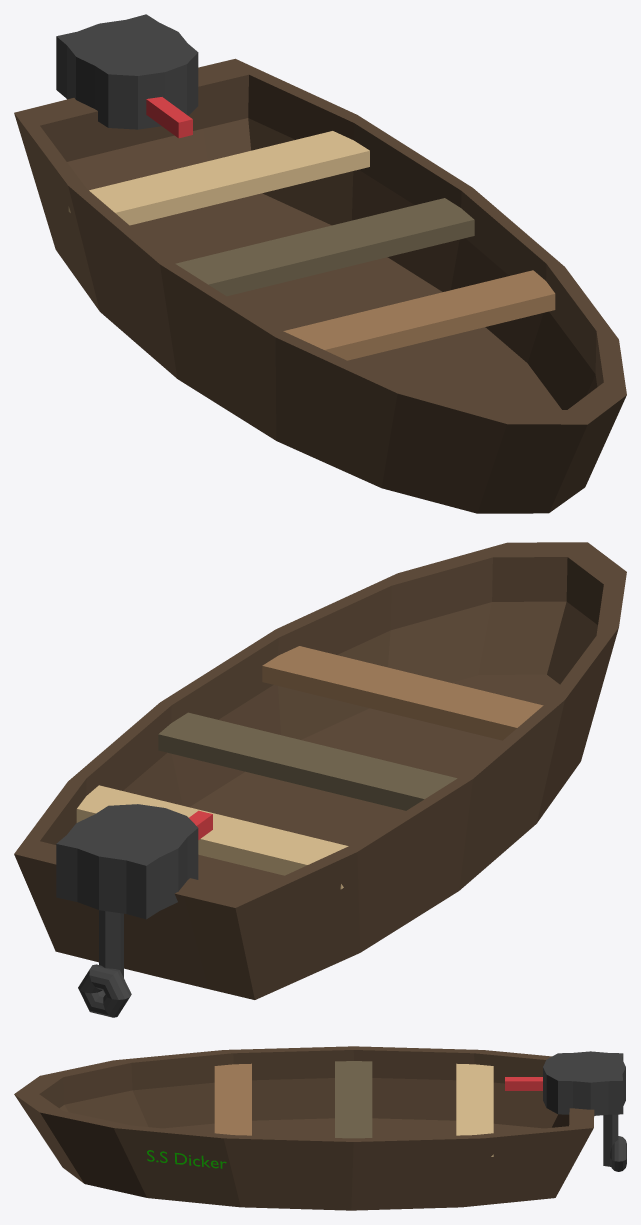
The model's file is lowpoly_rowboat.glb.
The picture shows the model from 3 angles, top to bottom: view 1: azimuth 30°, elevation 25°; view 2: azimuth 150°, elevation 25°; view 3: azimuth 270°, elevation 25°; orthographic projection. The views are drawn at different scales.
Parts seen in each view (by area): view 1: Main, Motor, Seat1, DriverSeat, Seat2, Handle; view 2: Main, Motor, Seat1, Seat2, DriverSeat; view 3: Main, Motor, Seat1, DriverSeat, Seat2, Handle, SSDICKER.
Boxes of the visible parts, left/top/right/bottom form: Main: left=14, top=58, right=626, bottom=513; Motor: left=56, top=14, right=198, bottom=129; Seat1: left=175, top=198, right=474, bottom=296; DriverSeat: left=68, top=131, right=369, bottom=225; Seat2: left=283, top=270, right=555, bottom=360; Handle: left=146, top=97, right=192, bottom=138; Main: left=14, top=542, right=626, bottom=999; Motor: left=56, top=804, right=198, bottom=1017; Seat1: left=158, top=712, right=457, bottom=810; Seat2: left=262, top=646, right=543, bottom=740; DriverSeat: left=76, top=785, right=348, bottom=889; Main: left=14, top=1046, right=594, bottom=1210; Motor: left=543, top=1051, right=626, bottom=1171; Seat1: left=335, top=1061, right=372, bottom=1138; DriverSeat: left=456, top=1063, right=493, bottom=1156; Seat2: left=214, top=1063, right=251, bottom=1135; Handle: left=505, top=1077, right=542, bottom=1090; SSDICKER: left=147, top=1150, right=226, bottom=1168.
Bounding box in the file's own units: 2.74 × 1.35 × 7.42.
